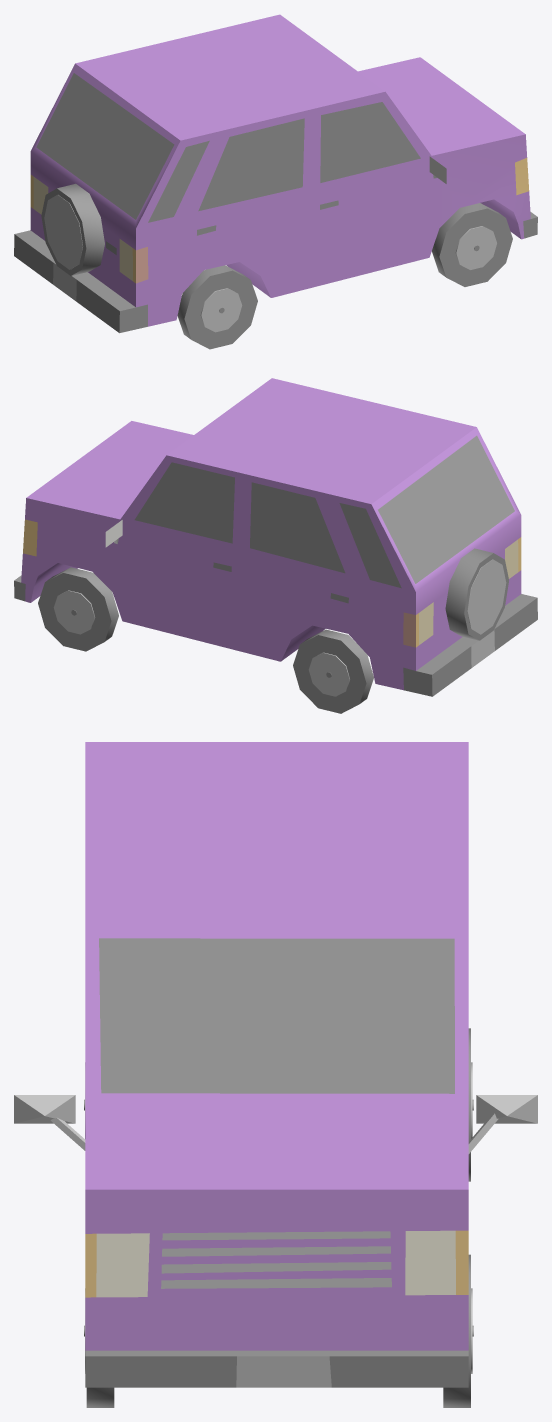
File: kar_l_4.fbx
3 renders of one model, top to bottom at view 1: azimuth 30°, elevation 25°; view 2: azimuth 150°, elevation 25°; view 3: azimuth 270°, elevation 25°, orthographic. The views are drawn at different scales.
Parts seen in each view (by area): view 1: Cube, Cylinder_6, Cylinder_9; view 2: Cube, Cylinder_7, Cylinder_8; view 3: Cube, Cylinder_7.
Part boxes in pixels (left/top/right/bottom): Cube: left=14, top=14, right=537, bottom=333; Cylinder_6: left=432, top=203, right=512, bottom=286; Cylinder_9: left=177, top=265, right=257, bottom=349; Cube: left=14, top=378, right=537, bottom=696; Cylinder_7: left=38, top=567, right=118, bottom=651; Cylinder_8: left=293, top=629, right=373, bottom=713; Cube: left=14, top=742, right=537, bottom=1387; Cylinder_7: left=443, top=1254, right=473, bottom=1407.
Size of the model in its own units: 437 by 215 by 259.
